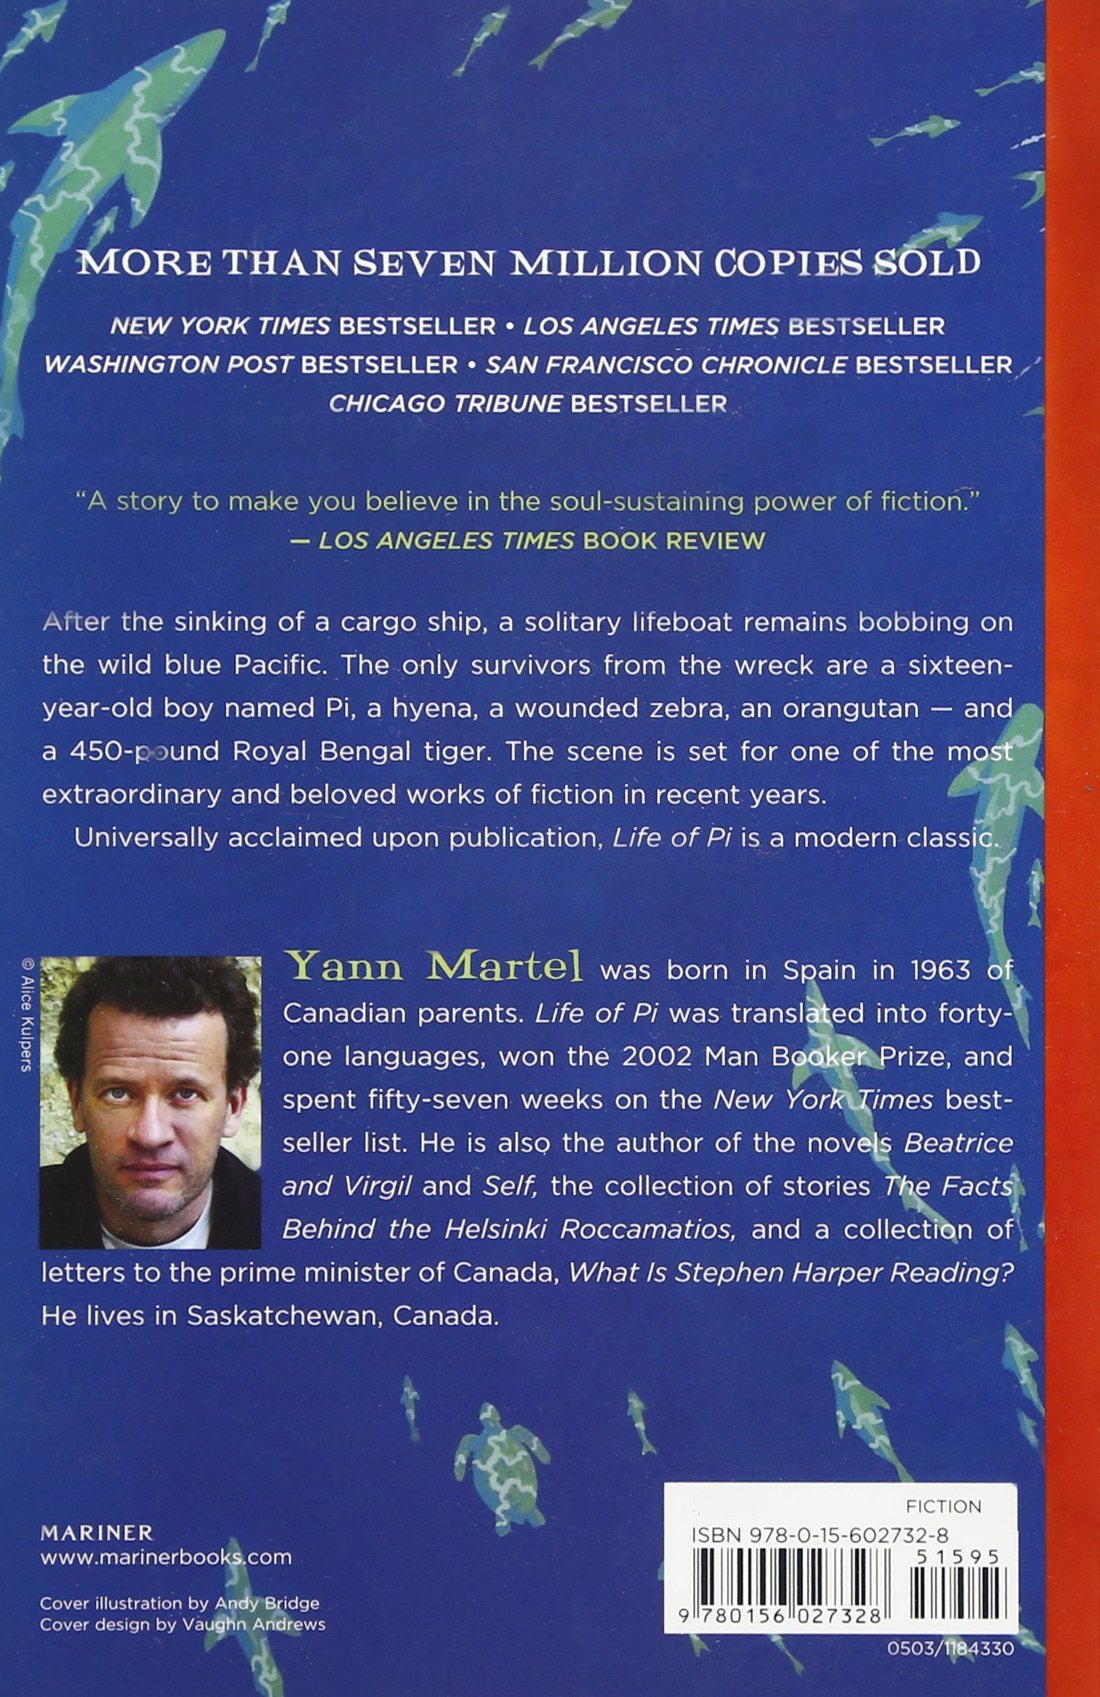barcode: (668, 1510, 1027, 1641)
